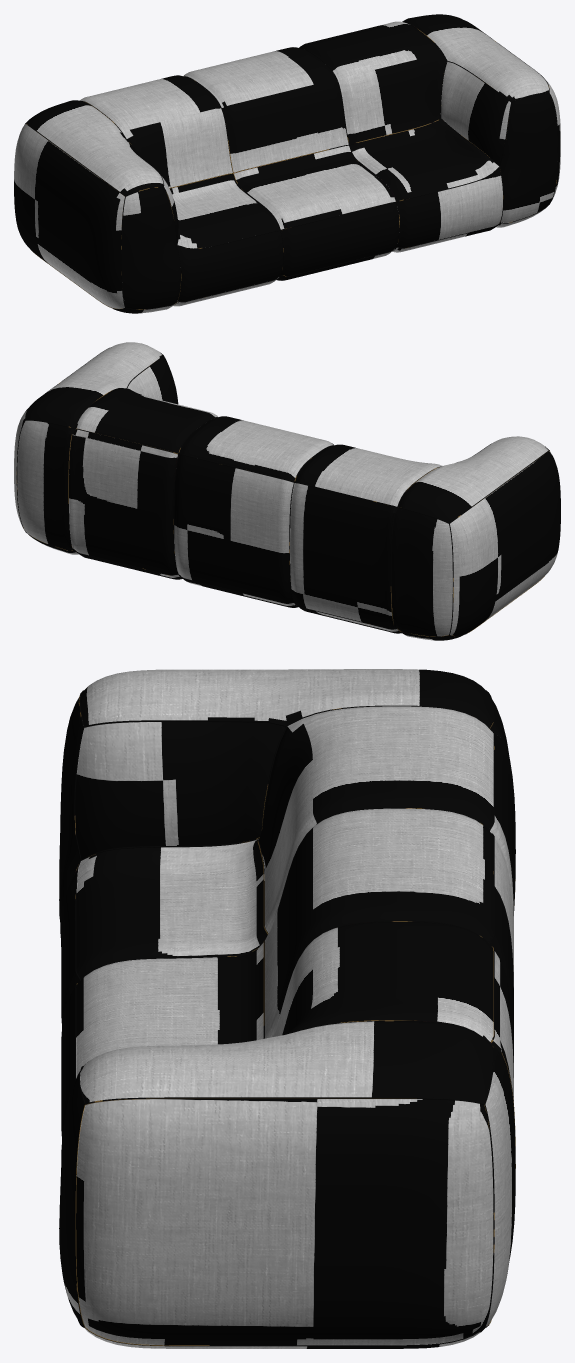
Rendered from couch.glb.
The picture shows the model from 3 angles, top to bottom: view 1: azimuth 30°, elevation 25°; view 2: azimuth 150°, elevation 25°; view 3: azimuth 270°, elevation 25°; orthographic projection. The views are drawn at different scales.
Parts seen in each view (by area): view 1: Fluffy Fabric Couch; view 2: Fluffy Fabric Couch; view 3: Fluffy Fabric Couch.
Boxes of the visible parts, x1,y1,x2,y2 form: Fluffy Fabric Couch: (14, 14, 560, 313); Fluffy Fabric Couch: (14, 342, 560, 640); Fluffy Fabric Couch: (59, 669, 515, 1348).
Bounding box in the file's own units: 2.1 × 0.651 × 0.8962.
Materials: 2 (2 with a texture image).
